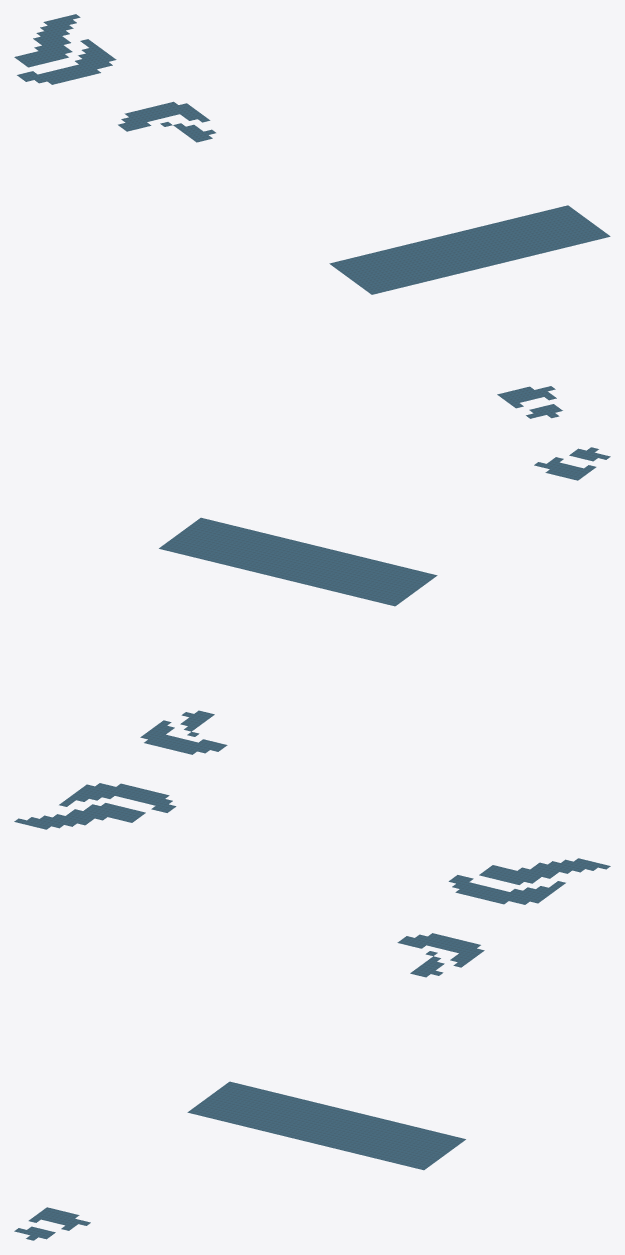
Rendered from floor_lake.glb.
3 renders of one model, top to bottom at view 1: azimuth 30°, elevation 25°; view 2: azimuth 150°, elevation 25°; view 3: azimuth 330°, elevation 25°, orthographic.
Parts seen in each view (by area): view 1: floor_lake; view 2: floor_lake; view 3: floor_lake.
Boxes of the visible parts, x1,y1,x2,y2 form: floor_lake: [14, 14, 610, 418]; floor_lake: [14, 447, 610, 829]; floor_lake: [14, 858, 610, 1240].
Size of the model in its own units: 136 by 0 by 448.
1 material, 1 textured.
